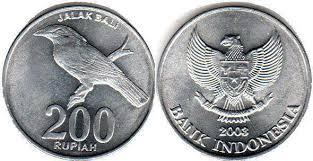coin_200_e2003: (157, 0, 312, 161), (1, 1, 156, 159)
